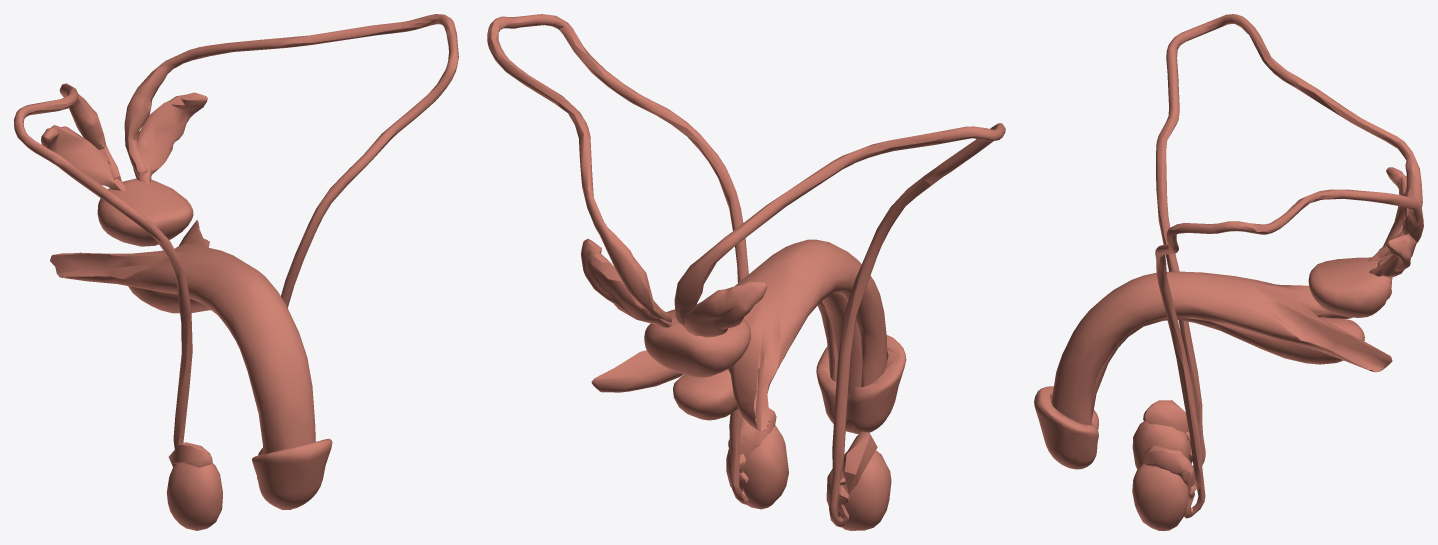
The model's file is reproductive_male.pelvis.glb.
3 renders of one model, left to right at view 1: azimuth 30°, elevation 25°; view 2: azimuth 150°, elevation 25°; view 3: azimuth 270°, elevation 25°, orthographic. The views are drawn at different scales.
Visible parts, largest first — view 1: corpus_cavernosum_of_penis, left_deferent_duct, right_deferent_duct, prostate, glans_penis, right_testis, left_seminal_vesicle, right_seminal_vesicle, corpus_spongiosum_of_penis, right_epididymis; view 2: corpus_cavernosum_of_penis, right_deferent_duct, left_deferent_duct, prostate, corpus_spongiosum_of_penis, glans_penis, left_testis, right_seminal_vesicle, right_testis, left_seminal_vesicle, right_epididymis, left_epididymis; view 3: corpus_cavernosum_of_penis, right_deferent_duct, left_deferent_duct, prostate, glans_penis, left_testis, corpus_spongiosum_of_penis, right_testis, left_epididymis, left_seminal_vesicle, right_epididymis, right_seminal_vesicle.
Boxes of the visible parts, <box> form: corpus_cavernosum_of_penis: <box>50,220,315,454</box>; left_deferent_duct: <box>124,14,458,307</box>; right_deferent_duct: <box>14,83,192,449</box>; prostate: <box>97,178,193,246</box>; glans_penis: <box>252,438,332,509</box>; right_testis: <box>166,462,222,530</box>; left_seminal_vesicle: <box>133,92,207,183</box>; right_seminal_vesicle: <box>41,125,125,190</box>; corpus_spongiosum_of_penis: <box>128,286,210,313</box>; right_epididymis: <box>168,442,212,467</box>; corpus_cavernosum_of_penis: <box>591,239,886,431</box>; right_deferent_duct: <box>674,123,1005,527</box>; left_deferent_duct: <box>487,14,748,504</box>; prostate: <box>644,309,750,377</box>; corpus_spongiosum_of_penis: <box>673,293,862,420</box>; glans_penis: <box>816,335,906,434</box>; left_testis: <box>726,425,788,509</box>; right_seminal_vesicle: <box>684,281,766,337</box>; right_testis: <box>826,450,891,530</box>; left_seminal_vesicle: <box>581,238,674,327</box>; right_epididymis: <box>842,431,877,493</box>; left_epididymis: <box>728,408,776,457</box>; corpus_cavernosum_of_penis: <box>1051,271,1392,425</box>; right_deferent_duct: <box>1156,14,1422,466</box>; left_deferent_duct: <box>1155,189,1423,518</box>; prostate: <box>1308,257,1392,317</box>; glans_penis: <box>1034,386,1098,469</box>; left_testis: <box>1132,463,1188,530</box>; corpus_spongiosum_of_penis: <box>1091,317,1364,423</box>; right_testis: <box>1132,421,1190,469</box>; left_epididymis: <box>1142,445,1195,499</box>; left_seminal_vesicle: <box>1369,233,1416,277</box>; right_epididymis: <box>1143,400,1188,433</box>; right_seminal_vesicle: <box>1368,167,1406,261</box>.
Bounding box in the file's own units: 0.1867 × 0.1712 × 0.1483.
